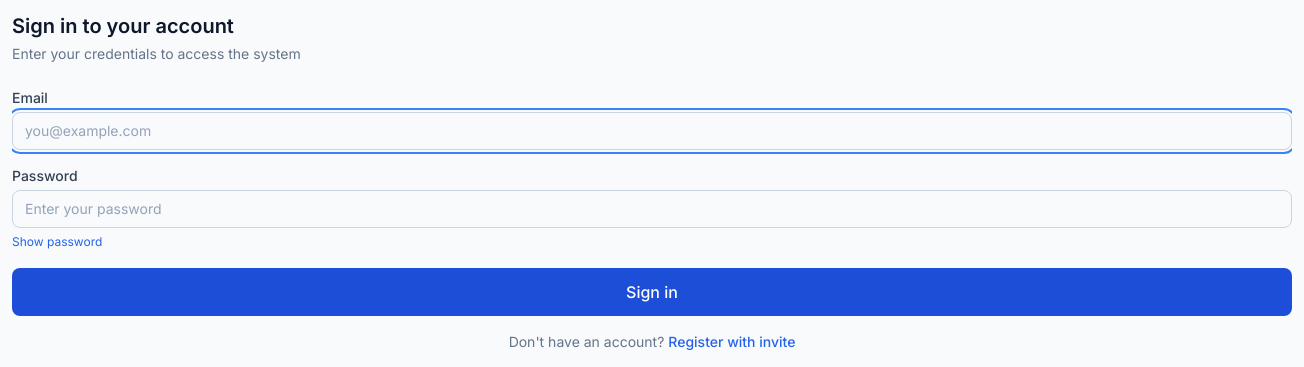
Scenario: LoginPage › shows loading state while submitting
Type "test@example.com" into the field labelled "Email" at (652, 131), box [12,112,1292,150]
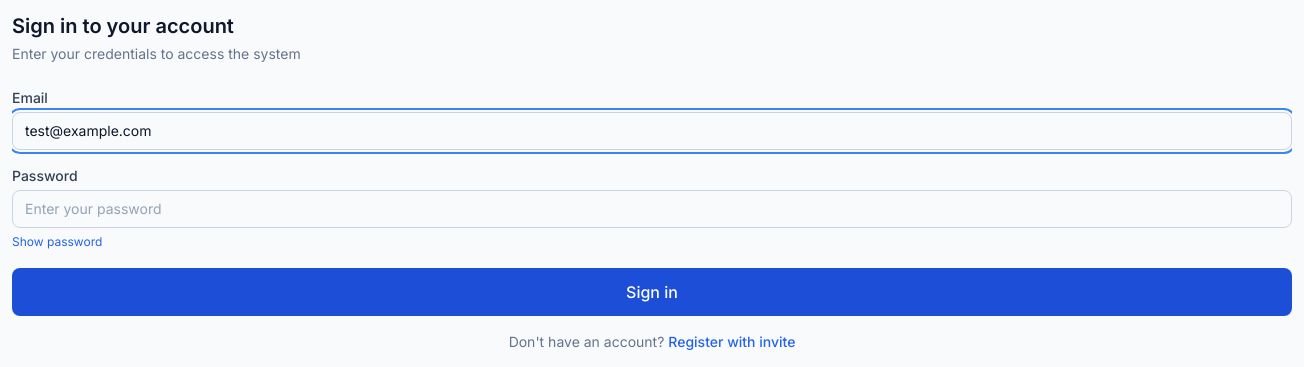
Type "Password1" into the password field labelled "Password" at (652, 209), box [12,190,1292,228]
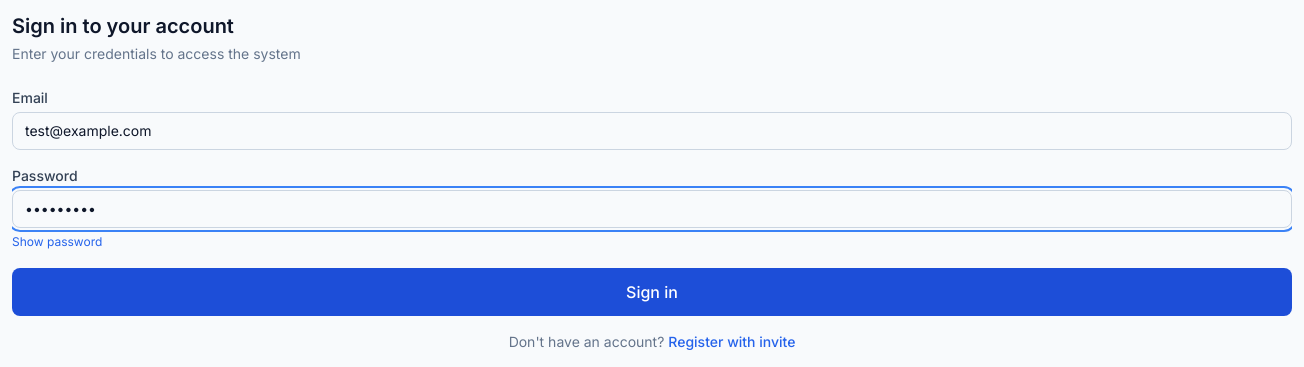
Click the button "Sign in" at (652, 292), box [12,268,1292,316]
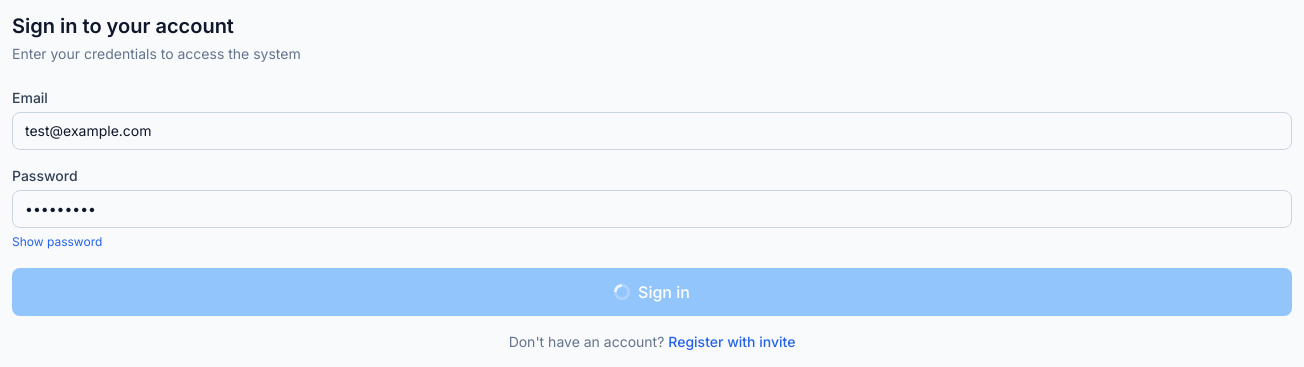
Check: the button "Sign in" is disabled, box [12,268,1292,316]
